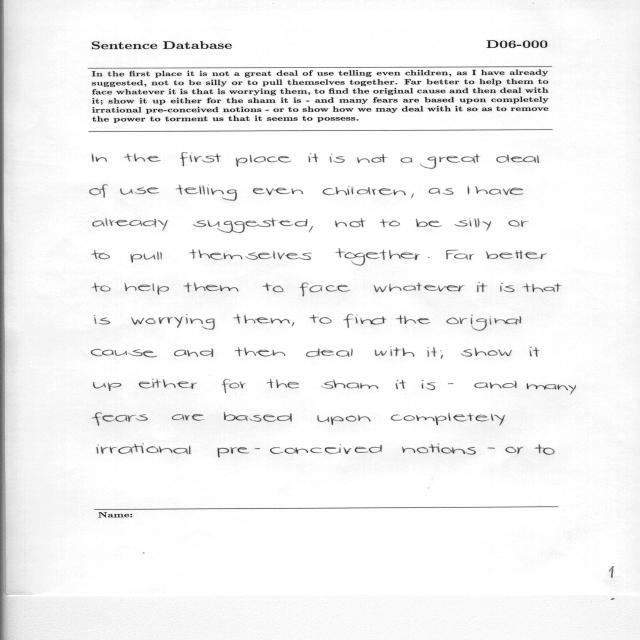word: (217, 444, 382, 457), (193, 218, 308, 233), (391, 413, 505, 426), (336, 249, 420, 266), (189, 249, 312, 260), (131, 314, 215, 330), (447, 315, 522, 331), (176, 185, 237, 201), (93, 218, 168, 231), (97, 444, 190, 454), (374, 283, 465, 293), (420, 154, 480, 169), (402, 444, 476, 455), (92, 412, 148, 426), (323, 186, 406, 195), (236, 154, 291, 167), (300, 283, 351, 297), (224, 412, 292, 422), (180, 153, 222, 167), (344, 314, 386, 328), (527, 383, 576, 395), (139, 379, 197, 389), (233, 314, 290, 324), (184, 283, 239, 293), (318, 415, 371, 425), (125, 283, 169, 295), (91, 349, 157, 357), (322, 380, 379, 389), (486, 251, 547, 259), (455, 218, 491, 231), (461, 348, 512, 357), (235, 348, 285, 357), (475, 186, 523, 195), (375, 347, 415, 357), (306, 349, 353, 357), (522, 283, 562, 292), (130, 252, 162, 263), (174, 348, 213, 357), (253, 188, 303, 195), (496, 155, 539, 163), (474, 381, 517, 389), (222, 379, 246, 393), (124, 153, 161, 162), (120, 187, 159, 195), (396, 315, 430, 324), (267, 379, 299, 388), (446, 250, 474, 260), (335, 218, 366, 227), (357, 154, 387, 163), (94, 382, 122, 391), (90, 185, 108, 198), (172, 414, 204, 421), (310, 314, 332, 324), (535, 444, 555, 455), (416, 219, 442, 227), (263, 283, 284, 292), (429, 188, 454, 195), (92, 250, 111, 259), (379, 219, 400, 227), (92, 283, 110, 292), (95, 315, 110, 325), (508, 220, 529, 227), (330, 154, 345, 163), (500, 283, 515, 292), (505, 447, 524, 454), (422, 380, 435, 390), (92, 154, 107, 162), (477, 282, 488, 292), (427, 347, 437, 357), (530, 347, 540, 357), (309, 154, 319, 163), (396, 380, 406, 389), (401, 157, 413, 163), (440, 350, 443, 359), (309, 226, 313, 232), (468, 186, 470, 195), (488, 447, 495, 449), (411, 194, 414, 198), (292, 322, 294, 327), (448, 383, 453, 384), (428, 257, 430, 258)
